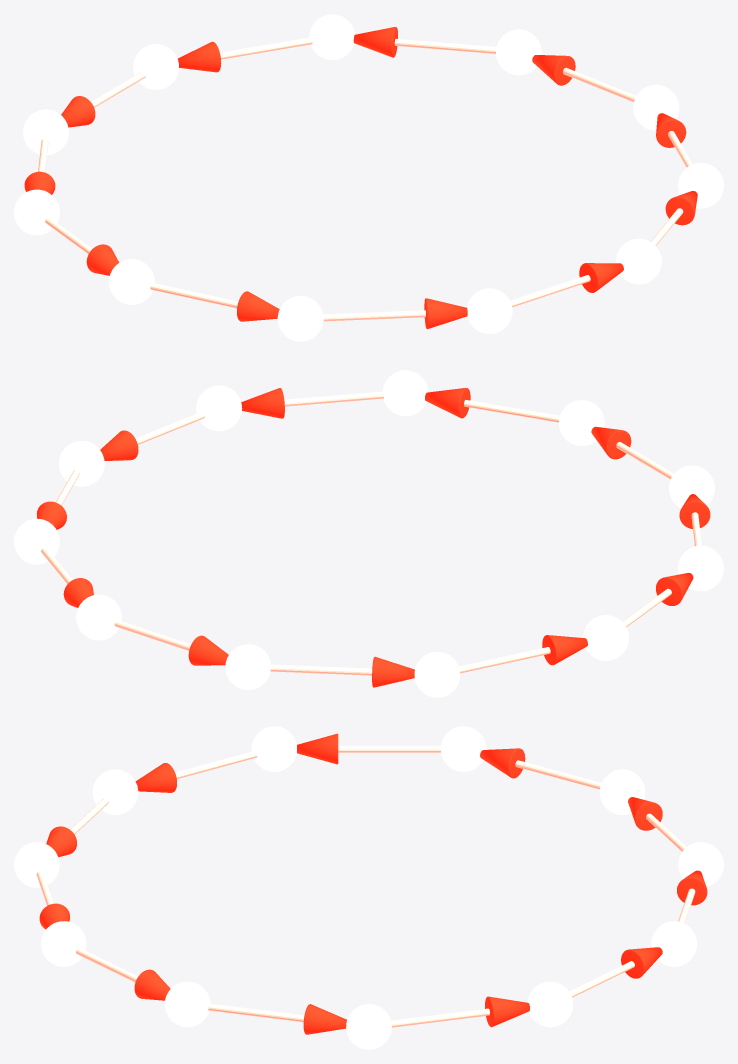
3 views of the same model, one above another, from view 1: azimuth 30°, elevation 25°; view 2: azimuth 150°, elevation 25°; view 3: azimuth 270°, elevation 25° (orthographic).
Parts seen in each view (by area): view 1: Sphere.0007, Sphere.0008, Sphere.0002, Sphere.0006, Sphere.0009, Sphere.0003, Sphere.0001, Sphere.0005, Sphere.0004, Sphere.0010, Sphere.0000, Alpha.0002 (+16 smaller); view 2: Sphere.0004, Sphere.0003, Sphere.0005, Sphere.0009, Sphere.0002, Sphere.0010, Sphere.0001, Sphere.0000, Sphere.0008, Sphere.0006, Sphere.0007, Alpha.0008 (+16 smaller); view 3: Sphere.0000, Sphere.0010, Sphere.0001, Sphere.0006, Sphere.0005, Sphere.0009, Sphere.0007, Sphere.0002, Sphere.0008, Sphere.0004, Sphere.0003, Alpha.0010 (+16 smaller).
Part boxes in pixels (left/top/right/bottom): Sphere.0007: left=277, top=295, right=323, bottom=341; Sphere.0008: left=467, top=288, right=512, bottom=333; Sphere.0002: left=309, top=14, right=354, bottom=60; Sphere.0006: left=109, top=259, right=154, bottom=304; Sphere.0009: left=616, top=238, right=661, bottom=284; Sphere.0003: left=133, top=44, right=178, bottom=89; Sphere.0001: left=496, top=29, right=541, bottom=75; Sphere.0005: left=14, top=189, right=59, bottom=235; Sphere.0004: left=23, top=109, right=68, bottom=155; Sphere.0010: left=678, top=162, right=723, bottom=208; Sphere.0000: left=633, top=84, right=679, bottom=130; Alpha.0002: left=178, top=41, right=221, bottom=72; Sphere.0004: left=414, top=652, right=460, bottom=697; Sphere.0003: left=225, top=644, right=270, bottom=689; Sphere.0005: left=583, top=615, right=628, bottom=660; Sphere.0009: left=382, top=370, right=428, bottom=415; Sphere.0002: left=76, top=594, right=121, bottom=640; Sphere.0010: left=196, top=385, right=242, bottom=431; Sphere.0001: left=14, top=518, right=59, bottom=564; Sphere.0000: left=58, top=441, right=104, bottom=486; Sphere.0008: left=559, top=400, right=604, bottom=445; Sphere.0006: left=678, top=545, right=723, bottom=591; Sphere.0007: left=669, top=465, right=714, bottom=508; Alpha.0008: left=425, top=388, right=470, bottom=418; Sphere.0000: left=346, top=1004, right=391, bottom=1049; Sphere.0010: left=164, top=981, right=210, bottom=1027; Sphere.0001: left=527, top=981, right=573, bottom=1027; Sphere.0006: left=251, top=726, right=296, bottom=771; Sphere.0005: left=441, top=726, right=486, bottom=771; Sphere.0009: left=41, top=921, right=86, bottom=966; Sphere.0007: left=92, top=769, right=138, bottom=814; Sphere.0002: left=651, top=921, right=696, bottom=966; Sphere.0008: left=14, top=842, right=59, bottom=887; Sphere.0004: left=599, top=769, right=645, bottom=814; Sphere.0003: left=678, top=842, right=723, bottom=886; Alpha.0010: left=303, top=1004, right=346, bottom=1034.
Bounding box in the file's own units: 1.99 × 0.1296 × 2.01.
